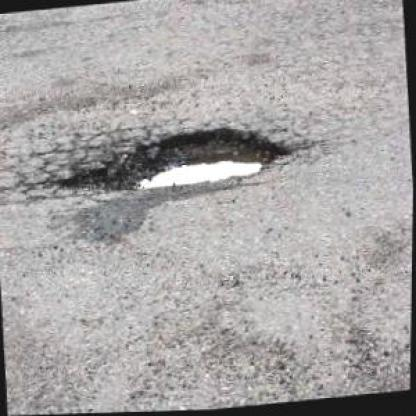pothole: (51, 115, 290, 204)
